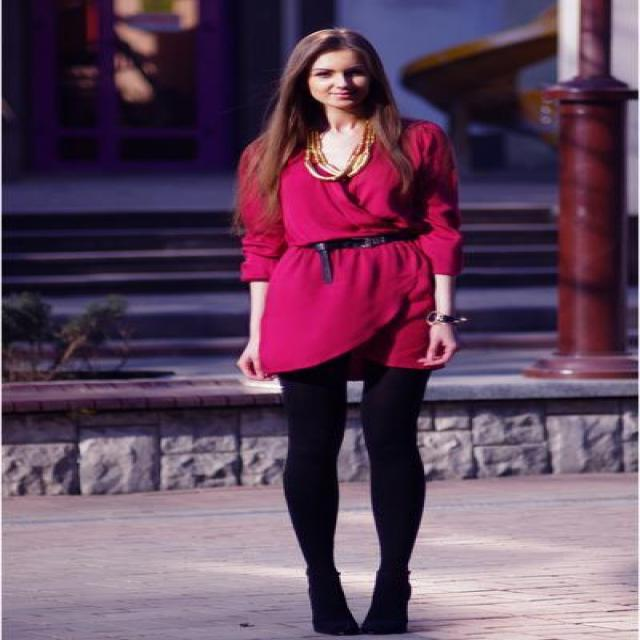dress: (237, 122, 459, 378)
pants: (262, 326, 440, 614)
shoe: (312, 608, 411, 635)
